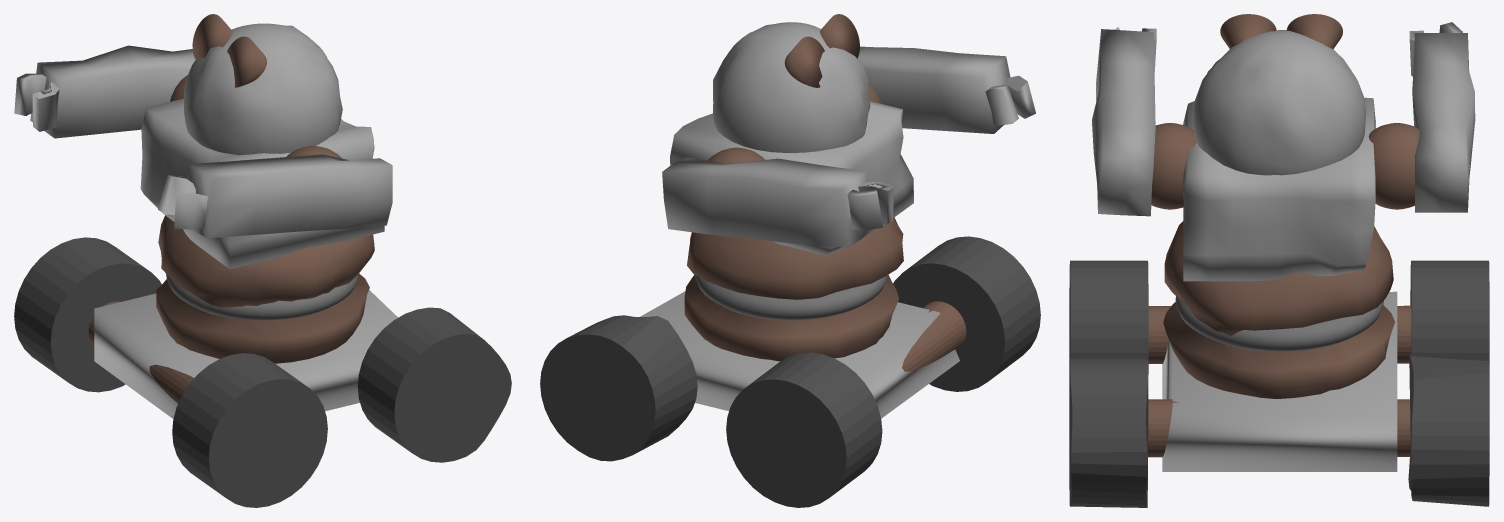
Rendered from robot2.fbx.
3 views of the same model, side by side, from view 1: azimuth 30°, elevation 25°; view 2: azimuth 150°, elevation 25°; view 3: azimuth 270°, elevation 25° (orthographic). The views are drawn at different scales.
Parts seen in each view (by area): view 1: Цилиндр.001, Сфера, Куб.001, Сфера.001, Cube, Куб.003, Куб, Torus, Конус, Цилиндр.002; view 2: Цилиндр.001, Сфера, Куб.003, Сфера.001, Куб.001, Cube, Куб, Torus, Конус, Цилиндр.002, Сфера.002; view 3: Цилиндр.001, Куб, Сфера, Cube, Сфера.001, Куб.001, Куб.003, Torus, Сфера.002, Сфера.003, Конус, Цилиндр (+1 smaller).
Boxes of the visible parts, <box> form: Цилиндр.001: <box>14,237,511,507</box>; Сфера: <box>156,215,374,363</box>; Куб.001: <box>158,154,392,238</box>; Сфера.001: <box>184,23,342,155</box>; Cube: <box>94,290,397,418</box>; Куб.003: <box>14,45,195,138</box>; Куб: <box>140,98,384,269</box>; Torus: <box>166,273,359,320</box>; Конус: <box>192,14,266,87</box>; Цилиндр.002: <box>88,301,193,403</box>; Цилиндр.001: <box>540,236,1040,507</box>; Сфера: <box>684,217,903,361</box>; Куб.003: <box>662,157,894,247</box>; Сфера.001: <box>713,22,870,152</box>; Куб.001: <box>858,46,1035,133</box>; Cube: <box>640,291,959,418</box>; Куб: <box>670,101,913,255</box>; Torus: <box>695,275,887,320</box>; Конус: <box>784,14,859,87</box>; Цилиндр.002: <box>902,301,966,371</box>; Сфера.002: <box>708,147,764,163</box>; Цилиндр.001: <box>1069,260,1489,507</box>; Куб: <box>1183,97,1375,281</box>; Сфера: <box>1163,221,1394,398</box>; Cube: <box>1162,291,1397,471</box>; Сфера.001: <box>1193,30,1366,175</box>; Куб.001: <box>1092,27,1156,216</box>; Куб.003: <box>1409,22,1475,212</box>; Torus: <box>1175,296,1383,351</box>; Сфера.002: <box>1368,123,1419,209</box>; Сфера.003: <box>1151,123,1197,209</box>; Конус: <box>1220,14,1342,49</box>; Цилиндр: <box>1148,399,1410,457</box>.
Size of the model in its own units: 345 by 397 by 357.
